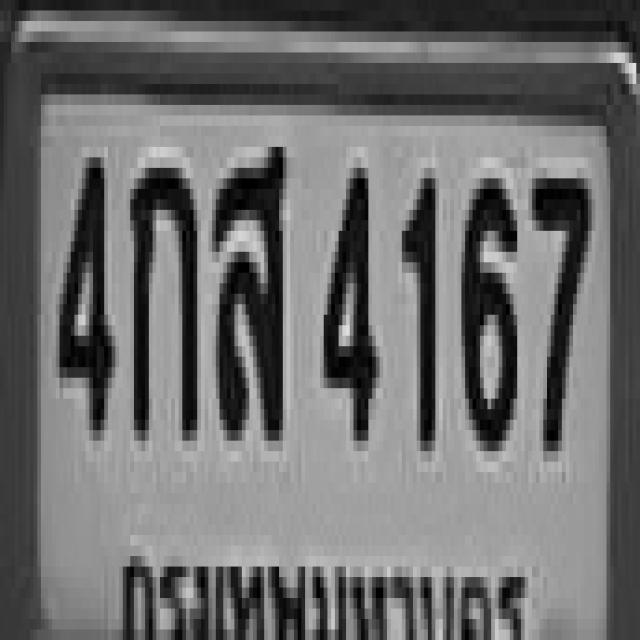1: (398, 168, 432, 441)
10GorGai: (126, 157, 194, 430)
4: (56, 147, 111, 430), (320, 157, 372, 430)
49SorSuea: (208, 137, 283, 430)
6: (458, 168, 514, 441)
7: (528, 168, 588, 441)
